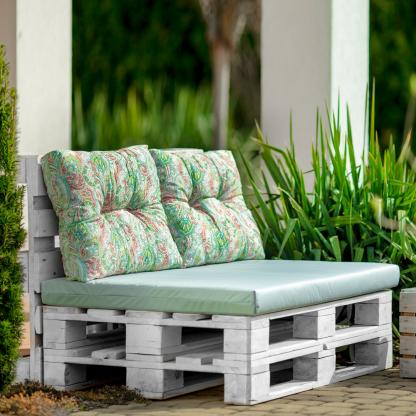BoxFace: (40, 336, 391, 405), (42, 292, 391, 357)
